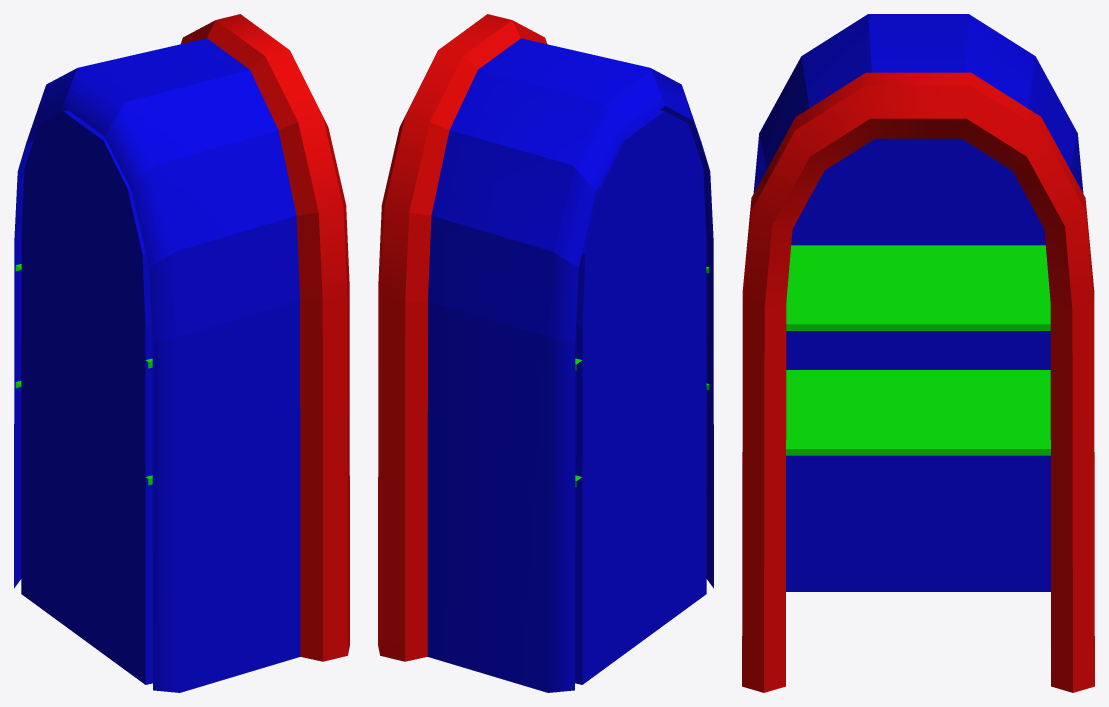
Rendered from Aufbewahrungsschrank_3_low.fbx.
3 views of the same model, side by side, from view 1: azimuth 30°, elevation 25°; view 2: azimuth 150°, elevation 25°; view 3: azimuth 270°, elevation 25° (orthographic). The views are drawn at different scales.
Visible parts, largest first — view 1: Aufbewahrungsschrank_3_low; view 2: Aufbewahrungsschrank_3_low; view 3: Aufbewahrungsschrank_3_low.
Boxes of the visible parts, bbox=[...] form: Aufbewahrungsschrank_3_low: bbox=[14, 14, 349, 692]; Aufbewahrungsschrank_3_low: bbox=[378, 14, 713, 692]; Aufbewahrungsschrank_3_low: bbox=[742, 14, 1094, 692].
Size of the model in its own units: 0.6664 by 1.85 by 0.9832.
